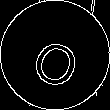O_NE: (25, 23, 85, 87)
